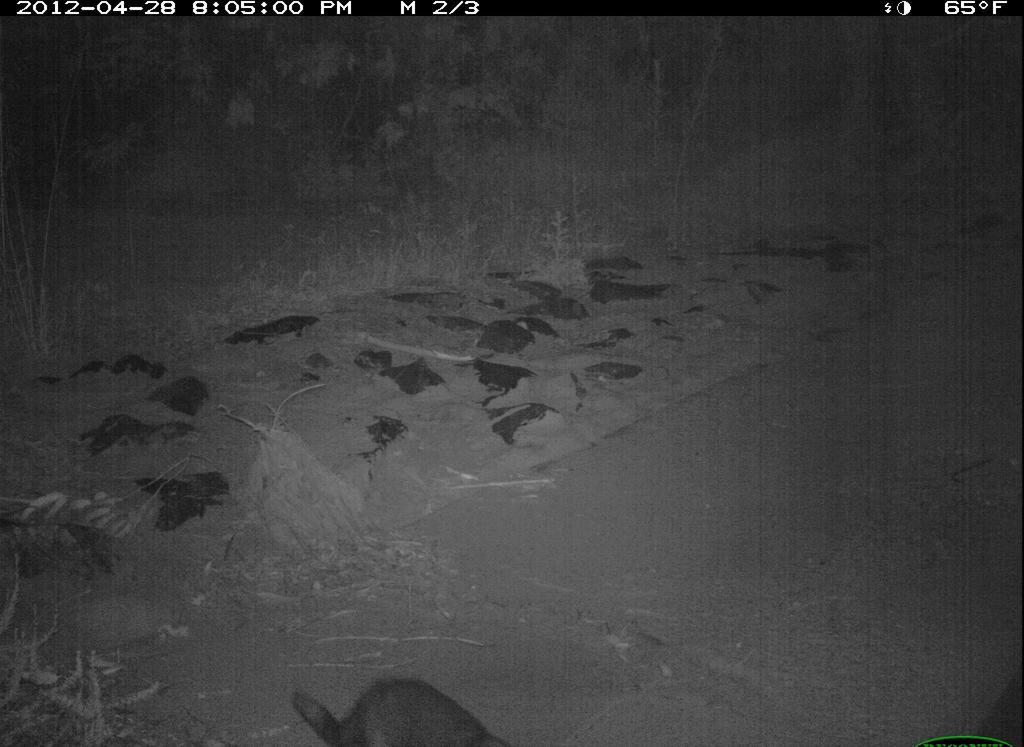cat: (285, 666, 534, 747)
